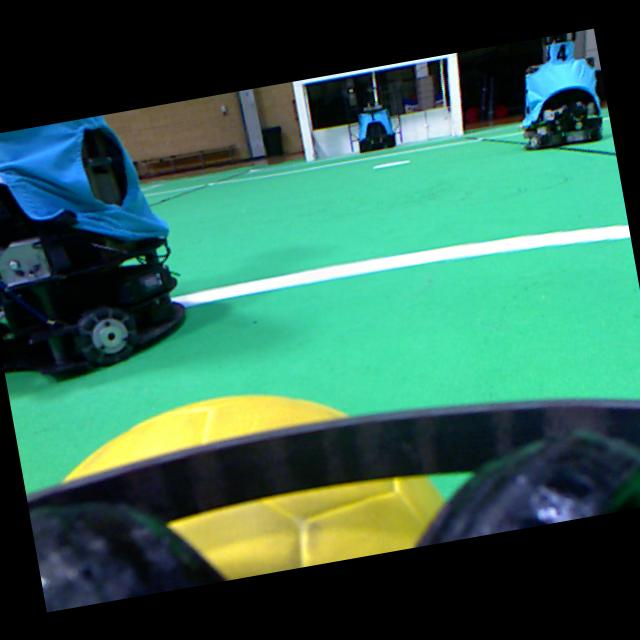ball: (65, 396, 445, 580)
goal: (291, 80, 314, 161), (446, 52, 463, 136)
